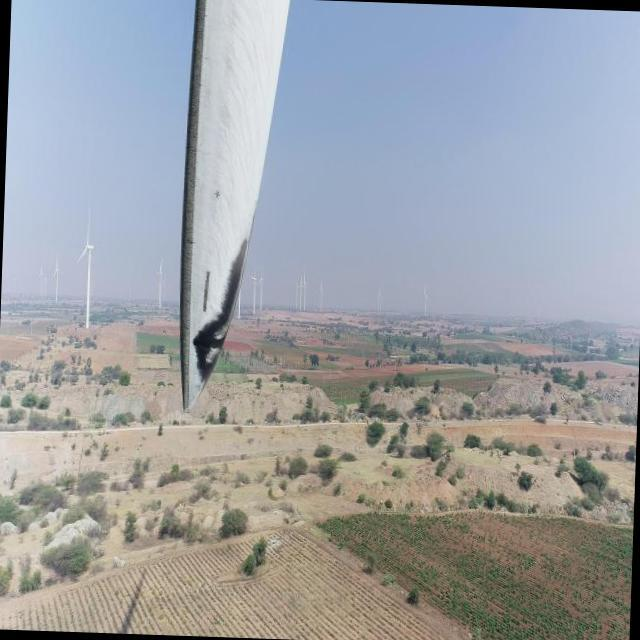Dirt: (179, 3, 265, 413)
Oil LEAKAGE: (193, 234, 253, 385)
Pin Hole: (215, 185, 221, 200)
